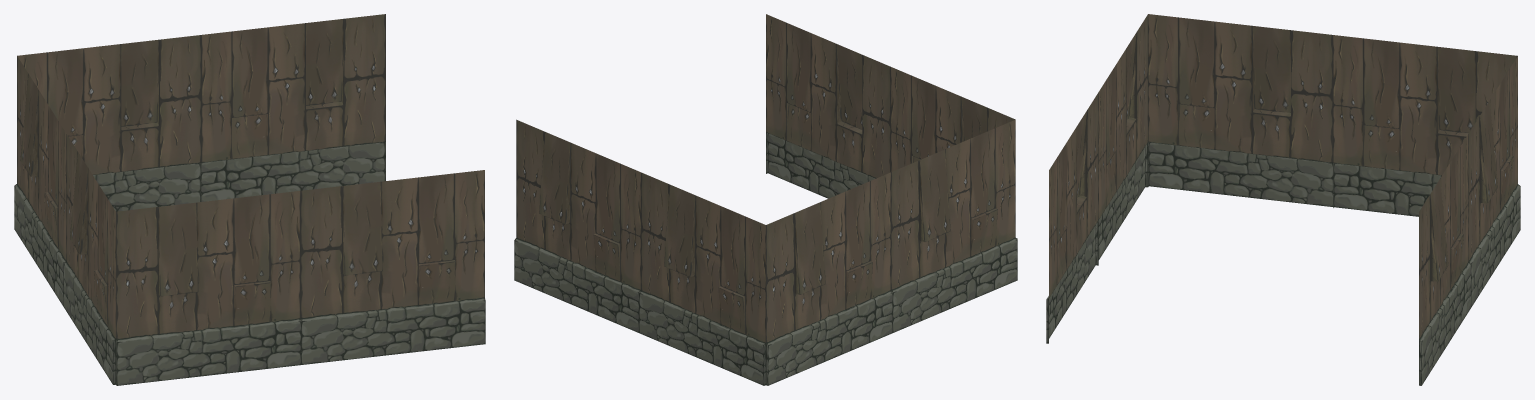
The model's file is polysurface526_tx_nex_mur_0_lev1_lev2.glb.
3 renders of one model, left to right at view 1: azimuth 30°, elevation 25°; view 2: azimuth 150°, elevation 25°; view 3: azimuth 270°, elevation 25°, orthographic. The views are drawn at different scales.
Parts seen in each view (by area): view 1: polysurface526_tx_nex_mur_0_lev1_lev2; view 2: polysurface526_tx_nex_mur_0_lev1_lev2; view 3: polysurface526_tx_nex_mur_0_lev1_lev2.
Part boxes in pixels (bbox=[...]): polysurface526_tx_nex_mur_0_lev1_lev2: bbox=[14, 14, 485, 385]; polysurface526_tx_nex_mur_0_lev1_lev2: bbox=[514, 14, 1017, 385]; polysurface526_tx_nex_mur_0_lev1_lev2: bbox=[1046, 14, 1520, 385].
Bounding box in the file's own units: 7.57 × 3.07 × 7.61.
Materials: 1 (1 with a texture image).
